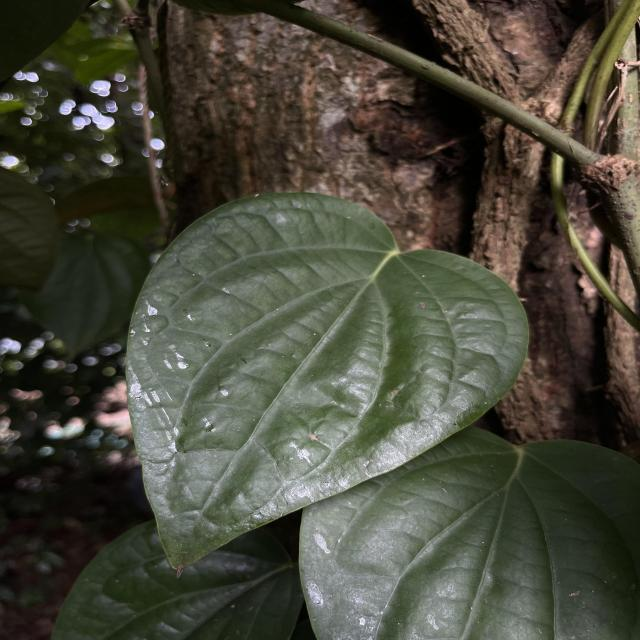Piper nigrum: (121, 187, 534, 575)
